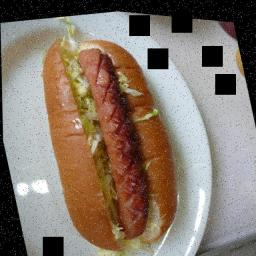hotdog: (36, 18, 190, 256)
